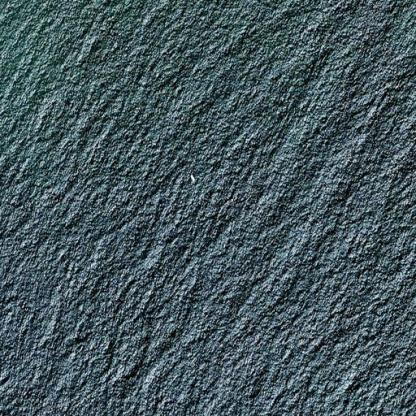ship: (185, 168, 199, 186)
